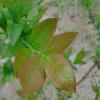Blueberry leaf: (44, 53, 83, 98), (18, 53, 48, 97), (28, 15, 60, 52), (41, 31, 81, 58), (9, 47, 35, 81)
